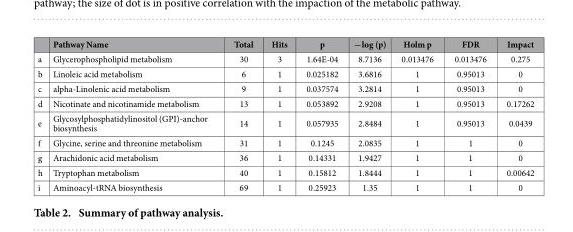table: (36, 37, 533, 192)
table column: (46, 37, 220, 192), (443, 37, 495, 192), (393, 37, 443, 192), (296, 37, 345, 192), (345, 37, 393, 192), (220, 37, 261, 192), (495, 37, 533, 192), (261, 37, 296, 192), (36, 37, 46, 192)
table column header: (36, 37, 533, 51)
table row: (36, 110, 533, 134), (36, 65, 533, 80), (36, 80, 533, 95), (36, 95, 533, 110), (36, 134, 533, 149), (36, 149, 533, 164), (36, 164, 533, 179), (36, 37, 533, 51), (36, 51, 533, 65), (36, 179, 533, 192)
